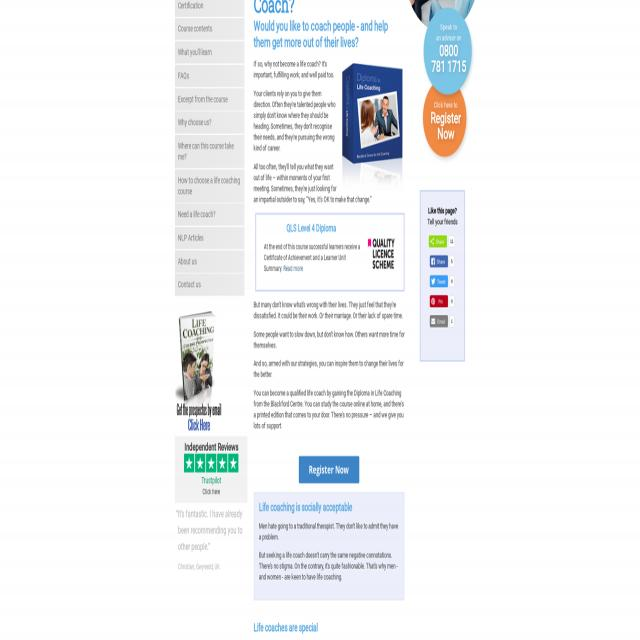button: (339, 59, 405, 192), (175, 311, 223, 433), (423, 8, 472, 96), (423, 83, 467, 158), (410, 0, 477, 29), (299, 456, 359, 484), (364, 230, 398, 278), (184, 454, 238, 472), (429, 255, 448, 268), (429, 295, 448, 308), (429, 235, 447, 248), (430, 275, 448, 287), (430, 315, 448, 327)
field: (449, 236, 455, 247), (449, 276, 454, 287), (450, 296, 454, 308), (450, 315, 454, 327), (450, 256, 454, 266)
